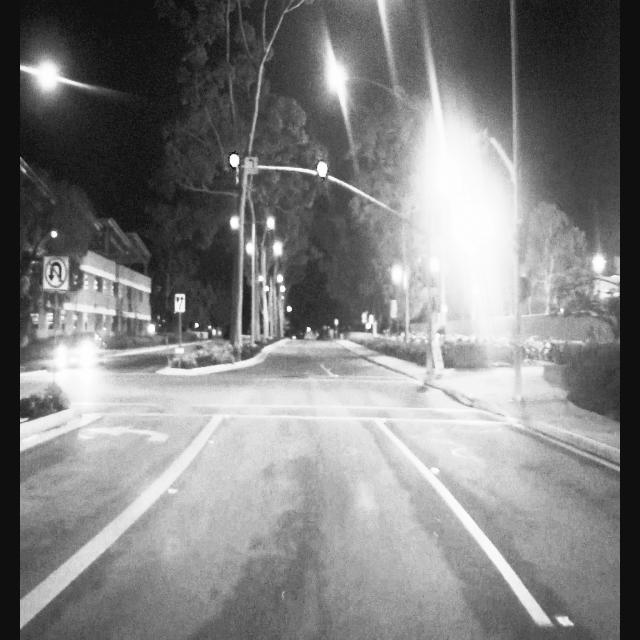Light: (229, 152, 239, 188), (429, 253, 439, 289), (317, 162, 327, 193)
Sign: (43, 255, 69, 291)
